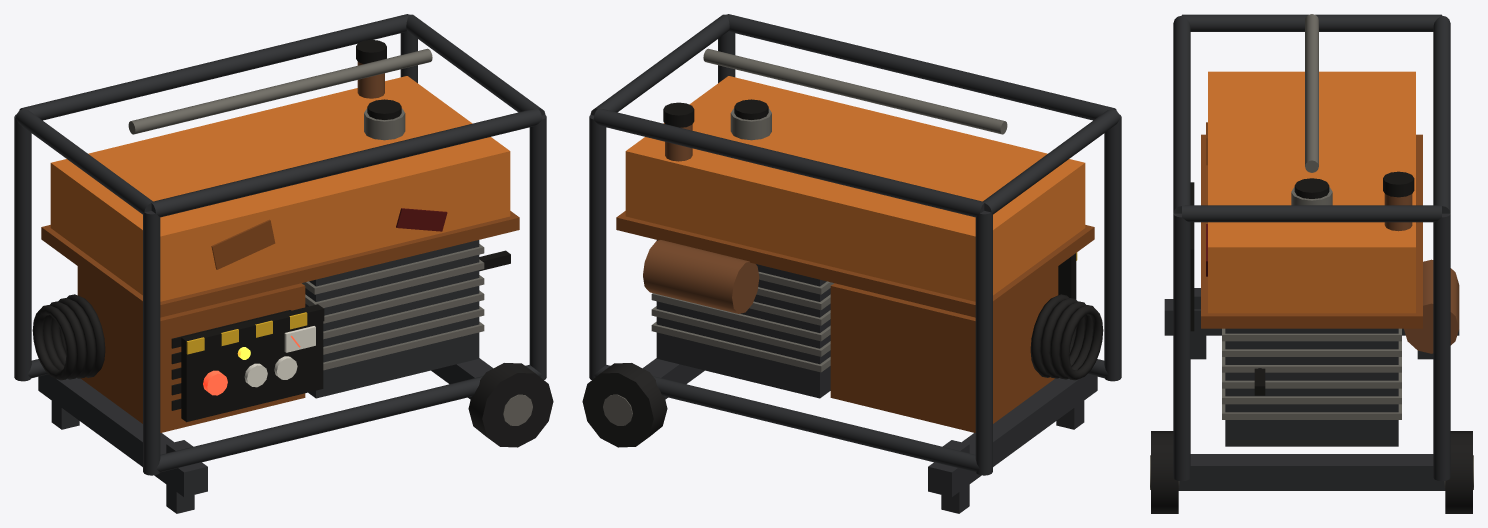
The model's file is generador.glb.
3 views of the same model, side by side, from view 1: azimuth 30°, elevation 25°; view 2: azimuth 150°, elevation 25°; view 3: azimuth 270°, elevation 25° (orthographic).
Visible parts, largest first — view 1: tanque, motor_bloque, alternador, panel_base, tanque_borde, tubo_superior_0, tubo_superior_1, tubo_inferior_0, patin_der, rueda_0, tubo_vertical_2, tubo_vertical_3 (+24 smaller); view 2: tanque, alternador, motor_bloque, tanque_borde, tubo_superior_1, tubo_superior_0, silenciador, tubo_inferior_1, patin_der, rueda_1, tubo_vertical_3, tubo_vertical_2 (+21 smaller); view 3: tanque, motor_bloque, patin_izq, tanque_borde, tubo_vertical_0, tubo_vertical_1, tubo_lateral_0, tubo_lateral_1, tubo_superior_0, tubo_superior_1, asa_transporte, rueda_0 (+15 smaller).
Part boxes in pixels (bbox=[...]): tanque: bbox=[50, 76, 510, 301]; motor_bloque: bbox=[305, 240, 479, 398]; alternador: bbox=[77, 266, 305, 432]; panel_base: bbox=[181, 304, 323, 422]; tanque_borde: bbox=[41, 211, 519, 317]; tubo_superior_0: bbox=[151, 108, 542, 217]; tubo_superior_1: bbox=[19, 14, 409, 120]; tubo_inferior_0: bbox=[156, 365, 541, 472]; patin_der: bbox=[38, 374, 207, 497]; rueda_0: bbox=[468, 363, 553, 447]; tubo_vertical_2: bbox=[143, 211, 160, 475]; tubo_vertical_3: bbox=[14, 114, 31, 381]; tanque: bbox=[625, 76, 1085, 301]; alternador: bbox=[830, 266, 1058, 432]; motor_bloque: bbox=[656, 240, 830, 398]; tanque_borde: bbox=[616, 211, 1094, 317]; tubo_superior_1: bbox=[593, 108, 984, 217]; tubo_superior_0: bbox=[726, 14, 1116, 120]; silenciador: bbox=[643, 240, 759, 313]; tubo_inferior_1: bbox=[594, 365, 979, 472]; patin_der: bbox=[928, 374, 1097, 497]; rueda_1: bbox=[582, 363, 667, 447]; tubo_vertical_3: bbox=[975, 211, 992, 475]; tubo_vertical_2: bbox=[1104, 114, 1121, 381]; tanque: bbox=[1208, 71, 1415, 313]; motor_bloque: bbox=[1225, 328, 1398, 446]; patin_izq: bbox=[1178, 454, 1445, 490]; tanque_borde: bbox=[1201, 134, 1422, 328]; tubo_vertical_0: bbox=[1173, 213, 1190, 481]; tubo_vertical_1: bbox=[1433, 213, 1450, 481]; tubo_lateral_0: bbox=[1182, 205, 1441, 222]; tubo_lateral_1: bbox=[1182, 14, 1441, 31]; tubo_superior_0: bbox=[1173, 15, 1190, 213]; tubo_superior_1: bbox=[1433, 15, 1450, 213]; asa_transporte: bbox=[1305, 14, 1318, 172]; rueda_0: bbox=[1151, 431, 1178, 513].
Bounding box in the file's own units: 1.45 × 1.1 × 0.935.
